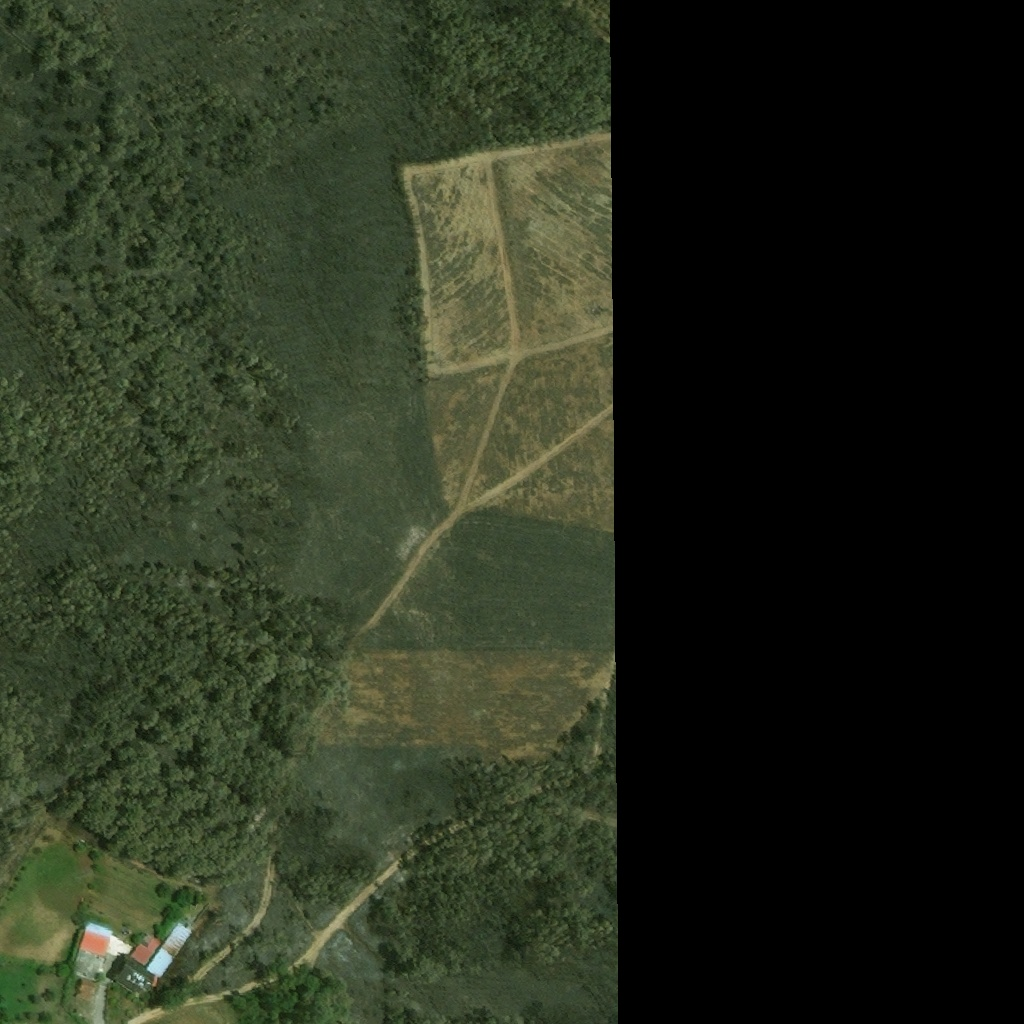0 no-damage: (65, 920, 113, 981), (108, 958, 156, 999), (129, 935, 161, 967), (73, 979, 96, 1004)
1 minor-damage: (145, 916, 193, 978)
